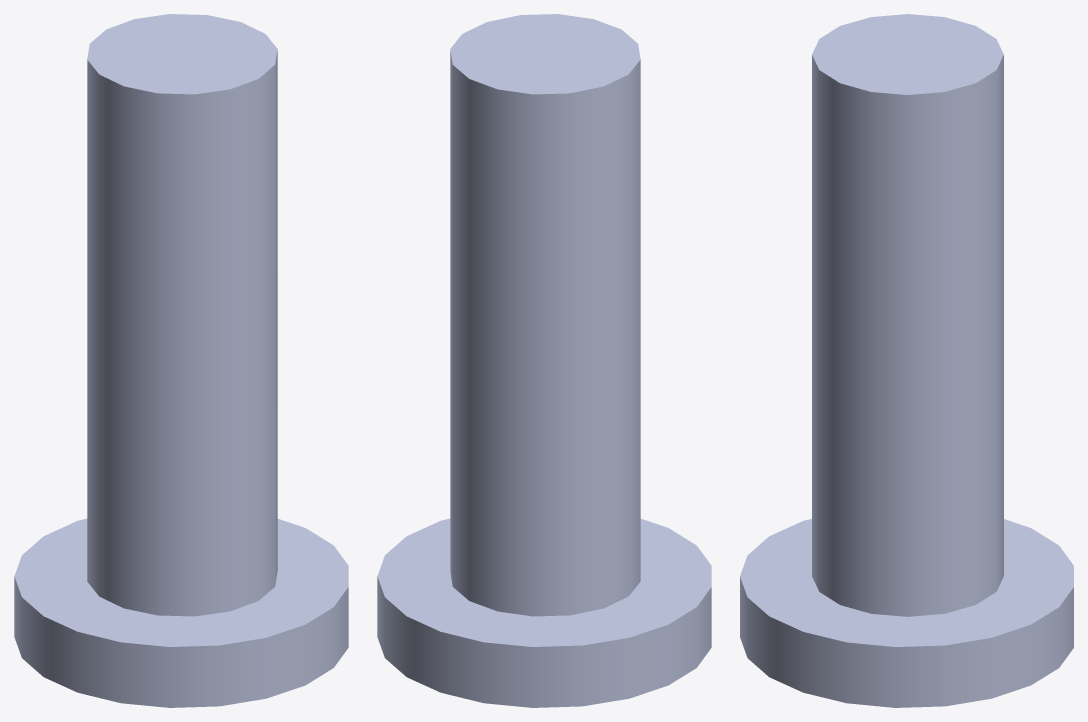
Rendered from leg_left_krs__M2x6_lowhead_5.dae.
3 views of the same model, side by side, from view 1: azimuth 30°, elevation 25°; view 2: azimuth 150°, elevation 25°; view 3: azimuth 270°, elevation 25° (orthographic).
Visible parts, largest first — view 1: node0; view 2: node0; view 3: node0.
Boxes of the visible parts, x1,y1,x2,y2 form: node0: (14,14,348,707); node0: (377,14,711,707); node0: (740,14,1073,707).
Size of the model in its own units: 0.00349 by 0.0067 by 0.00348.
